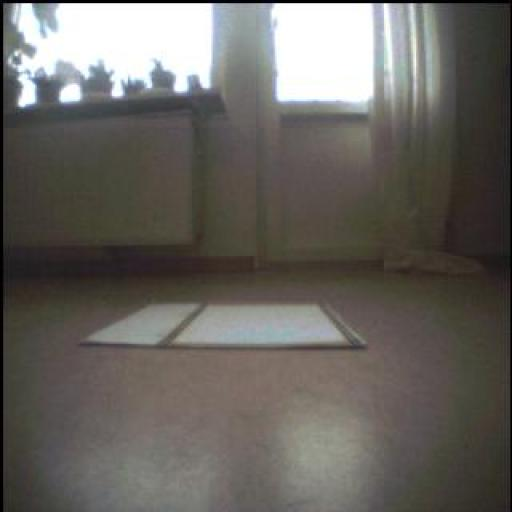Pad: (82, 303, 372, 350)
